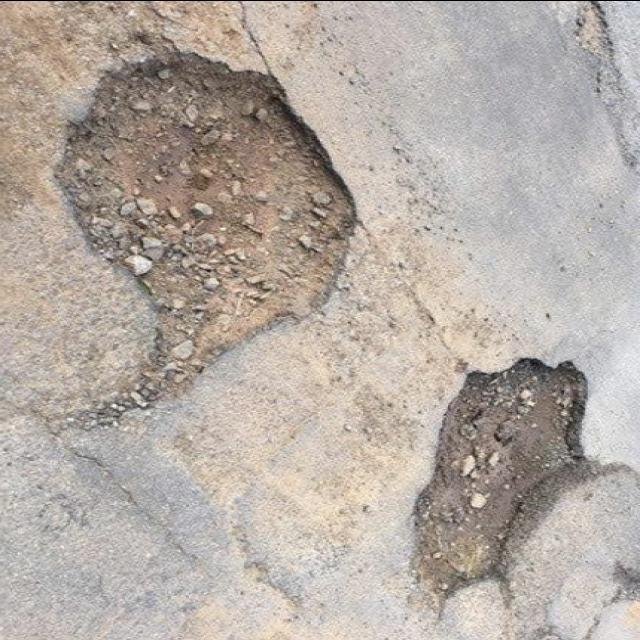jalan retak: (30, 424, 180, 564), (382, 228, 458, 382), (594, 66, 640, 180), (217, 1, 277, 76)
lubang: (55, 41, 368, 422), (406, 357, 600, 600), (174, 551, 312, 640), (560, 2, 628, 79), (597, 553, 640, 621), (493, 614, 569, 640)
